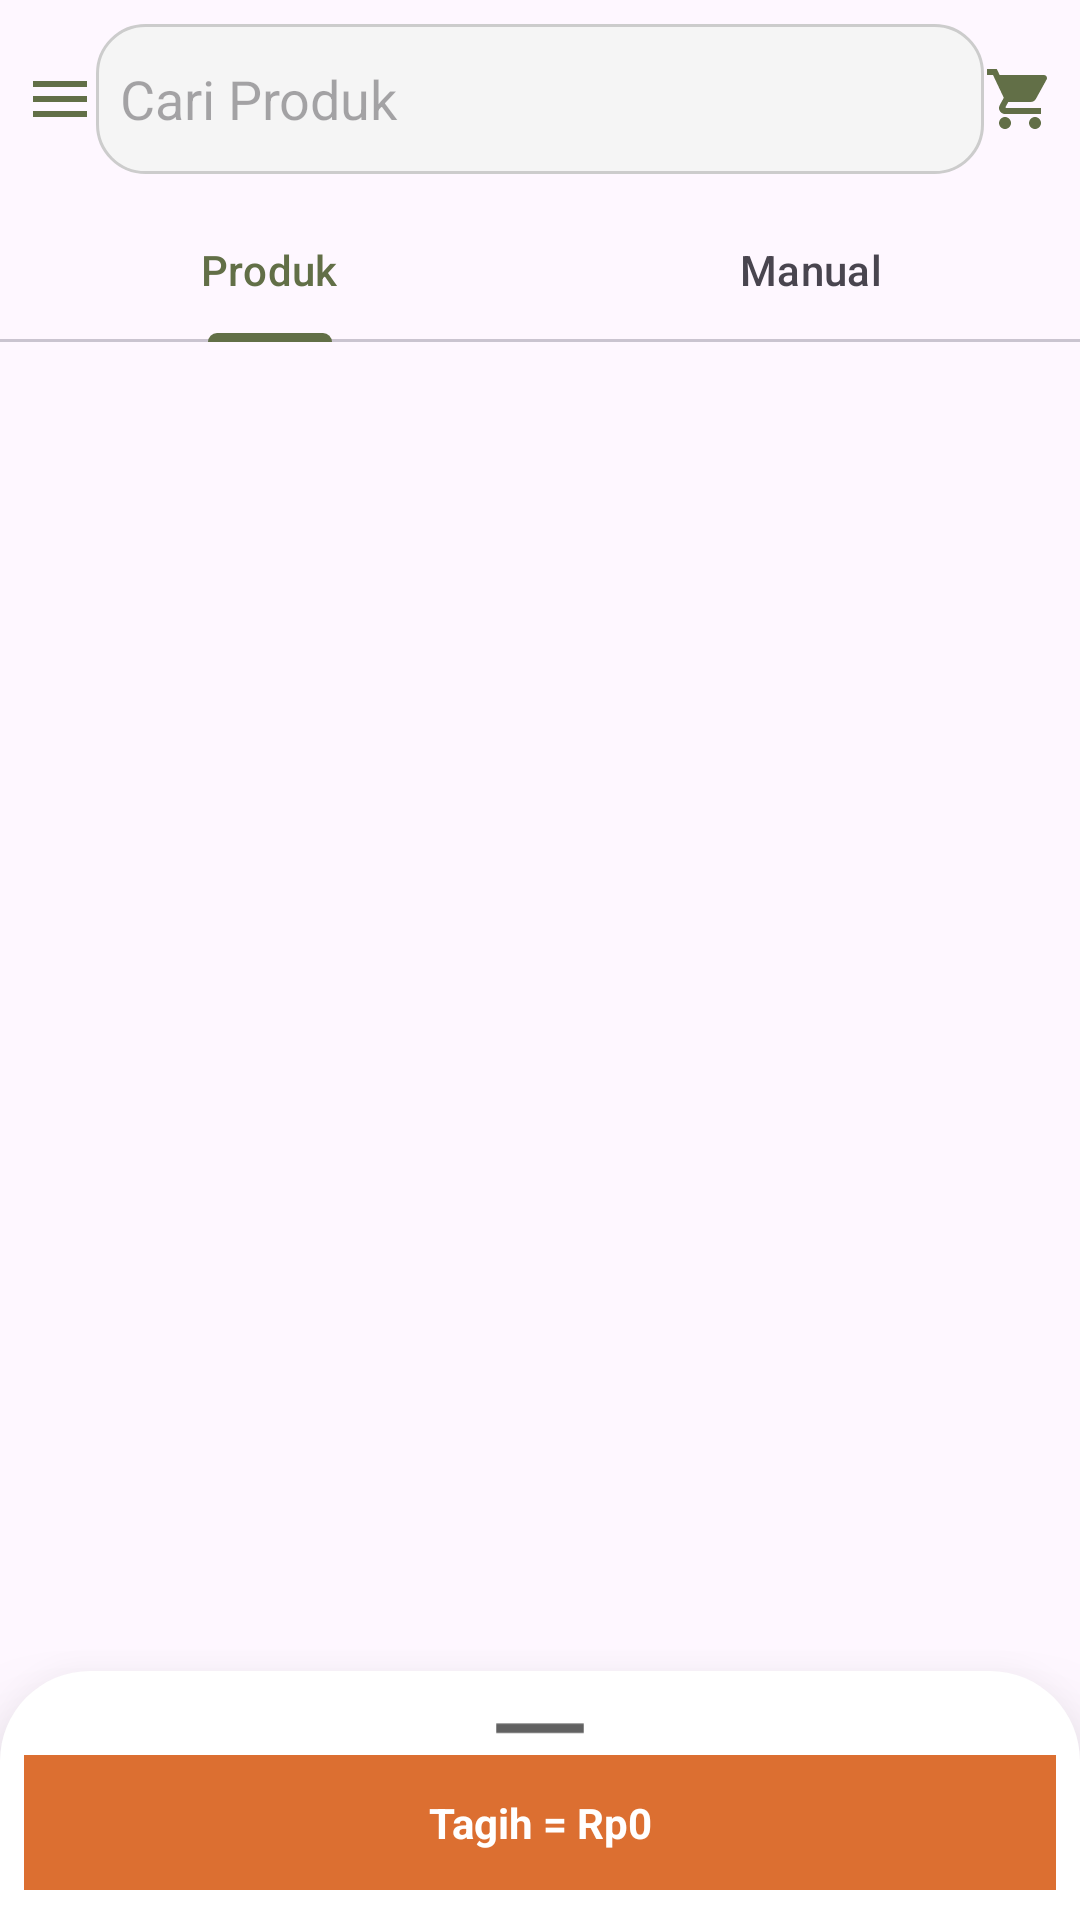

Icon click points for this 1080px x 1920px phone screenshot, format [x,y]:
Cart: [1017,99]
Menu: [60,99]
